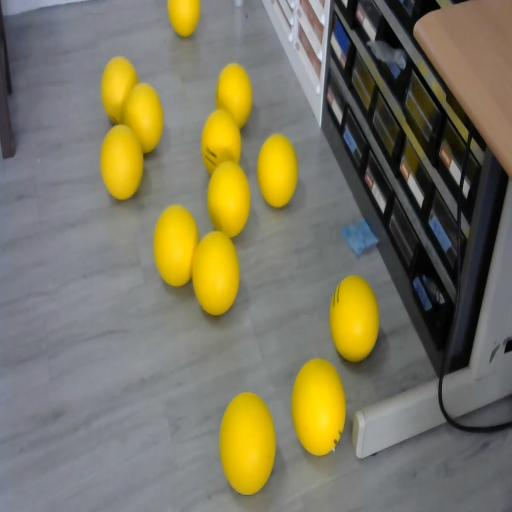FUEL: (218, 390, 276, 494), (290, 356, 346, 455), (329, 272, 379, 360), (192, 230, 240, 315), (153, 204, 199, 287), (206, 160, 252, 238), (99, 123, 144, 201), (257, 133, 299, 207), (101, 56, 139, 124), (216, 62, 253, 128), (168, 0, 200, 38)
